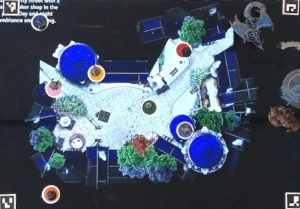blue: (30, 13, 49, 32)
green: (139, 98, 159, 117)
orange: (41, 182, 60, 203)
pink: (45, 79, 63, 98)
red: (174, 41, 191, 56)
violet: (173, 119, 196, 139)
yellow: (86, 63, 104, 83)
